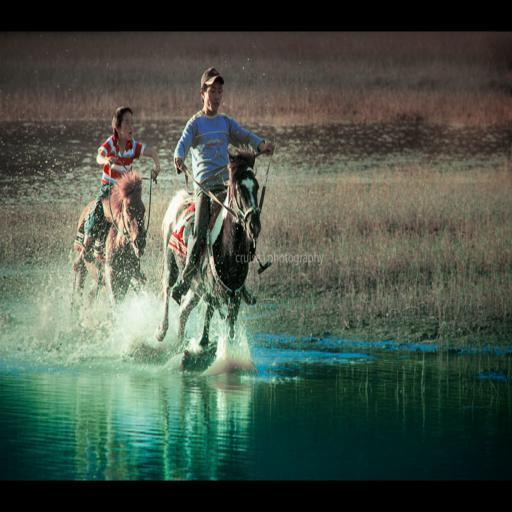horse: (154, 140, 262, 350), (70, 168, 146, 320)
